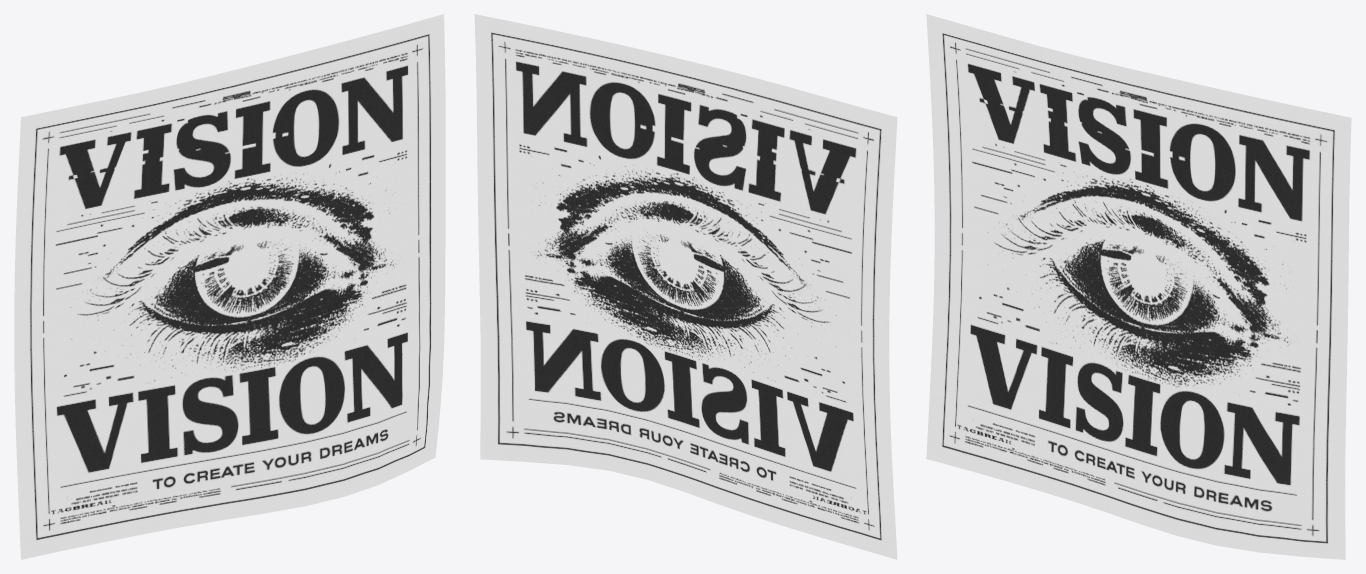
File: future_gaze.glb
The picture shows the model from 3 angles, left to right: view 1: azimuth 30°, elevation 25°; view 2: azimuth 150°, elevation 25°; view 3: azimuth 330°, elevation 25°; orthographic projection.
Visible parts, largest first — view 1: Plane; view 2: Plane; view 3: Plane.
Part boxes in pixels (x1,y1,x2,y2): Plane: (14,14,445,559); Plane: (474,14,897,559); Plane: (926,14,1351,559).
Size of the model in its own units: 2 by 2 by 0.2072.
1 material, 1 textured.
